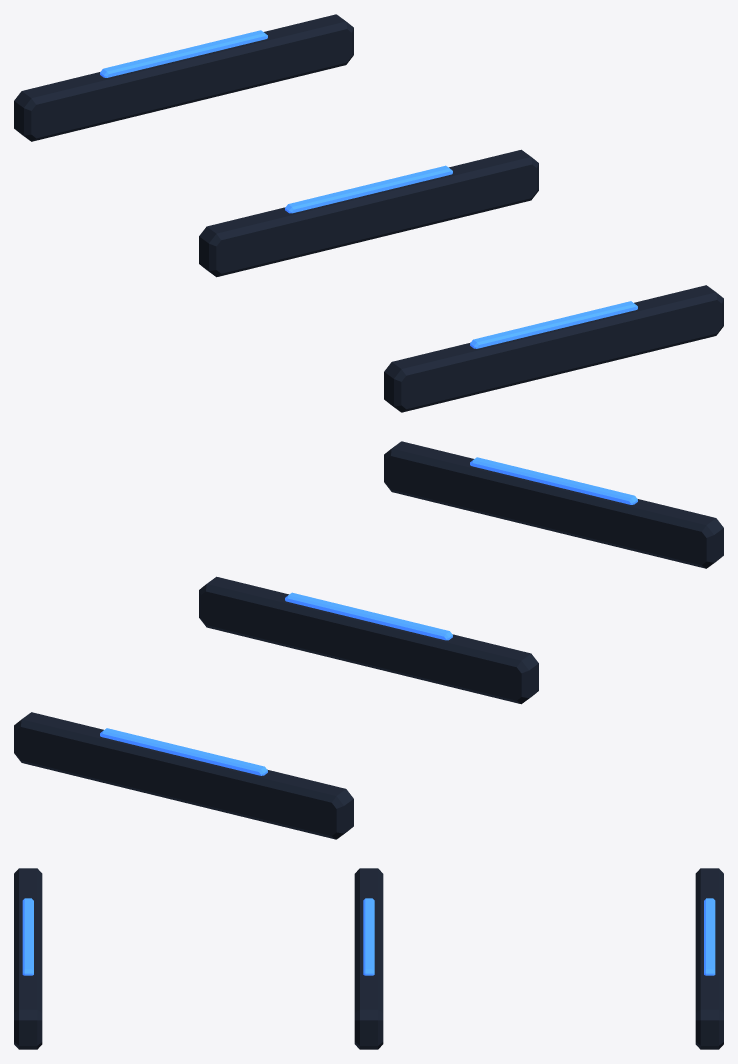
The model's file is tower_lance_damage_s2.glb.
3 renders of one model, top to bottom at view 1: azimuth 30°, elevation 25°; view 2: azimuth 150°, elevation 25°; view 3: azimuth 270°, elevation 25°, orthographic. The views are drawn at different scales.
Visible parts, largest first — view 1: lance_rail_strap0.55, lance_rail_strap-0.05, lance_rail_strap1.15, lance_rail_strap_glow0.55, lance_rail_strap_glow-0.05, lance_rail_strap_glow1.15; view 2: lance_rail_strap0.55, lance_rail_strap1.15, lance_rail_strap-0.05, lance_rail_strap_glow0.55, lance_rail_strap_glow1.15, lance_rail_strap_glow-0.05; view 3: lance_rail_strap0.55, lance_rail_strap-0.05, lance_rail_strap1.15, lance_rail_strap_glow-0.05, lance_rail_strap_glow0.55, lance_rail_strap_glow1.15.
Boxes of the visible parts, x1,y1,x2,y2 form: lance_rail_strap0.55: [199, 149, 538, 277]; lance_rail_strap-0.05: [384, 285, 723, 412]; lance_rail_strap1.15: [14, 14, 353, 141]; lance_rail_strap_glow0.55: [285, 165, 452, 213]; lance_rail_strap_glow-0.05: [470, 301, 637, 348]; lance_rail_strap_glow1.15: [100, 30, 267, 77]; lance_rail_strap0.55: [199, 576, 538, 704]; lance_rail_strap1.15: [14, 712, 353, 839]; lance_rail_strap-0.05: [384, 441, 723, 568]; lance_rail_strap_glow0.55: [285, 592, 452, 640]; lance_rail_strap_glow1.15: [100, 728, 267, 775]; lance_rail_strap_glow-0.05: [470, 457, 637, 504]; lance_rail_strap0.55: [354, 868, 383, 1049]; lance_rail_strap-0.05: [14, 868, 42, 1049]; lance_rail_strap1.15: [695, 868, 723, 1049]; lance_rail_strap_glow-0.05: [22, 898, 33, 975]; lance_rail_strap_glow0.55: [363, 898, 374, 975]; lance_rail_strap_glow1.15: [704, 898, 715, 975].
Bounding box in the file's own units: 0.618 × 0.0876 × 1.25.
